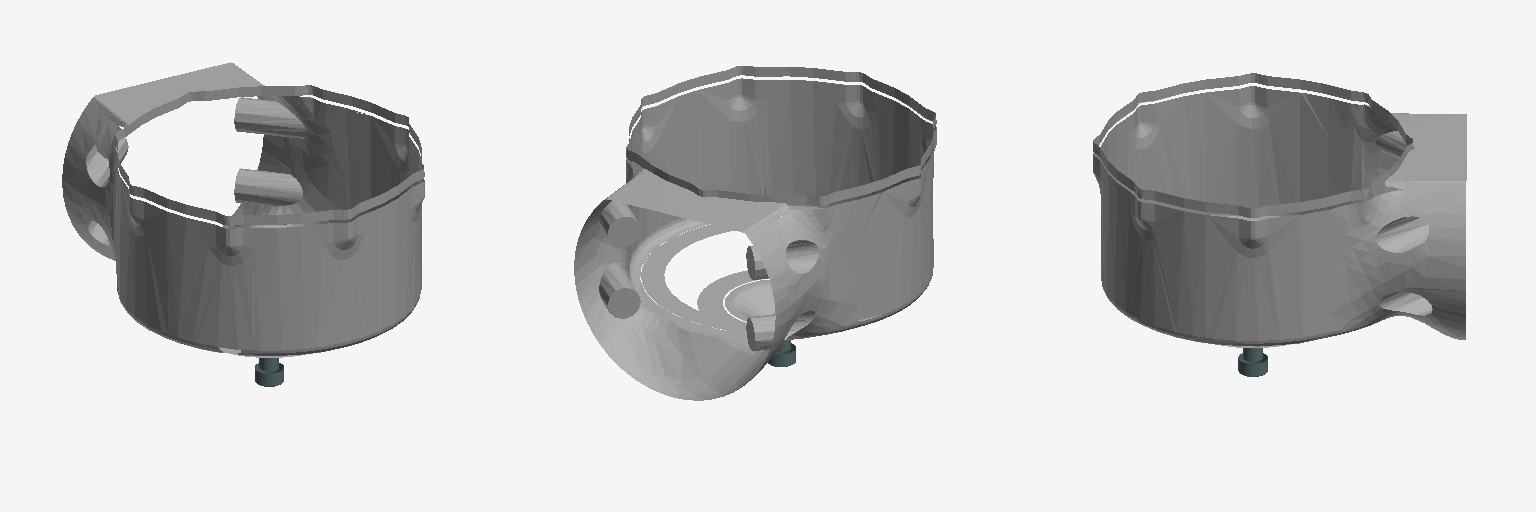
File: hip-pitch-housing.obj
3 views of the same model, side by side, from view 1: azimuth 30°, elevation 25°; view 2: azimuth 150°, elevation 25°; view 3: azimuth 270°, elevation 25° (orthographic).
Visible parts, largest first — view 1: __TMPOBJ_____TMPMESH__.054; view 2: __TMPOBJ_____TMPMESH__.054; view 3: __TMPOBJ_____TMPMESH__.054.
Boxes of the visible parts, x1,y1,x2,y2 form: __TMPOBJ_____TMPMESH__.054: [62, 62, 424, 386]; __TMPOBJ_____TMPMESH__.054: [574, 66, 936, 400]; __TMPOBJ_____TMPMESH__.054: [1093, 73, 1466, 376].
Bounding box in the file's own units: 0.1019 × 0.0808 × 0.1189.